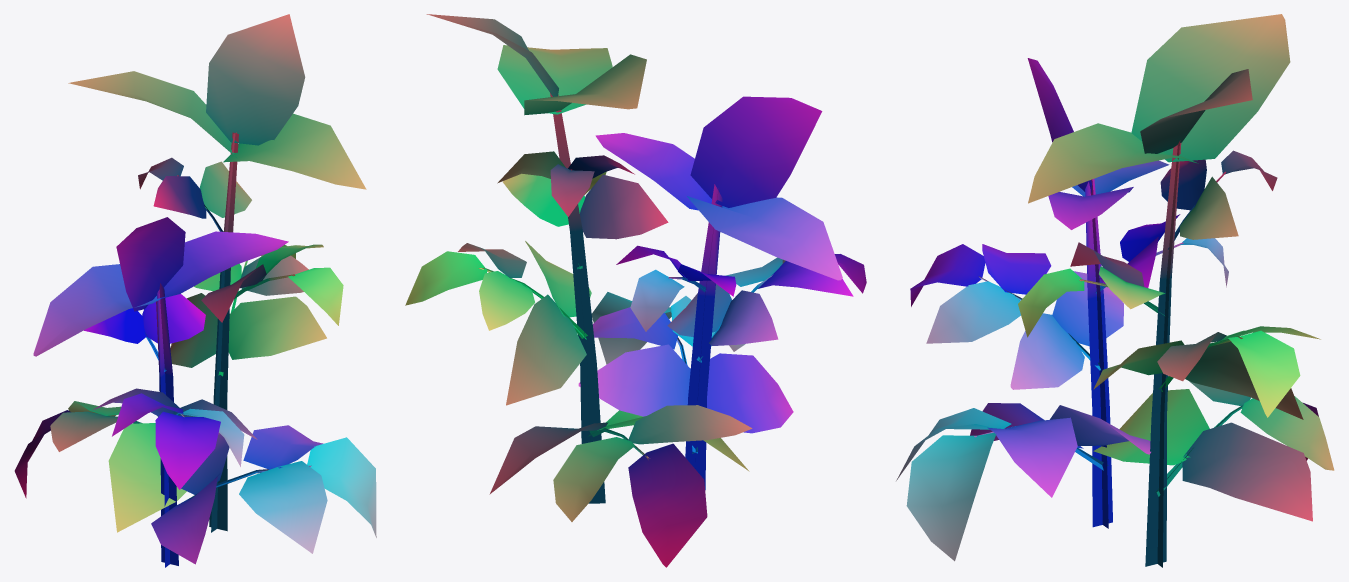
The model's file is Raspberry_wf0oefeja_High_wf0oefeja_VarC_LOD1.fbx.
3 renders of one model, left to right at view 1: azimuth 30°, elevation 25°; view 2: azimuth 150°, elevation 25°; view 3: azimuth 270°, elevation 25°, orthographic. The views are drawn at different scales.
Visible parts, largest first — view 1: _7wus_VarC_LOD2; view 2: _7wus_VarC_LOD2; view 3: _7wus_VarC_LOD2.
Boxes of the visible parts, bbox=[...] form: _7wus_VarC_LOD2: bbox=[14, 14, 376, 567]; _7wus_VarC_LOD2: bbox=[405, 14, 866, 567]; _7wus_VarC_LOD2: bbox=[896, 14, 1334, 567].
Bounding box in the file's own units: 12.42 × 16.31 × 12.27.
